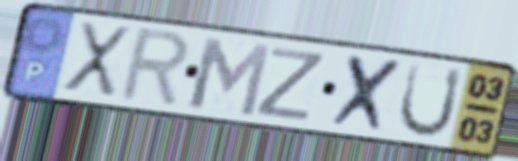M: (186, 33, 274, 120)
R: (114, 25, 194, 111)
U: (394, 59, 466, 140)
X: (326, 51, 409, 137), (58, 18, 134, 102)
Z: (252, 44, 329, 125)
